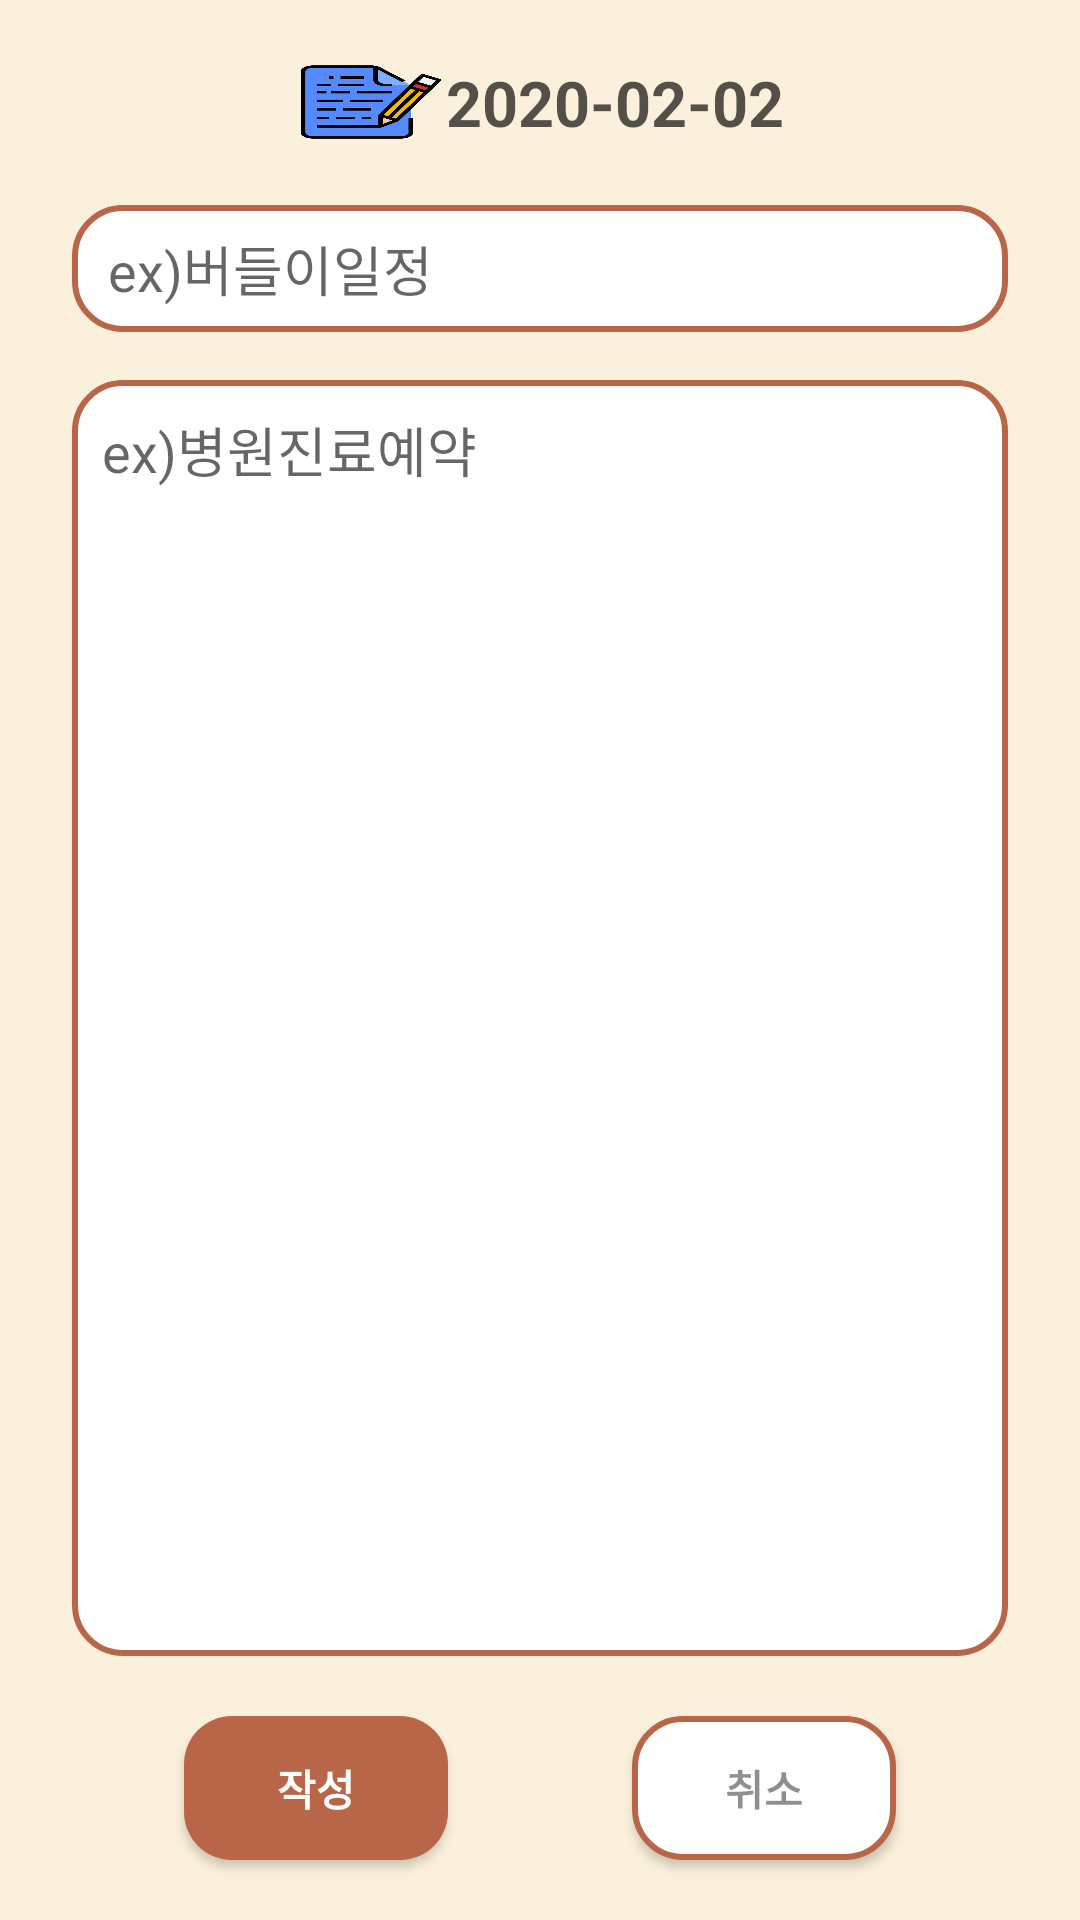

Screen size 1080*1920. Icon name, then its center in pixels as (x=x, y=y):
write: (x=371, y=102)
